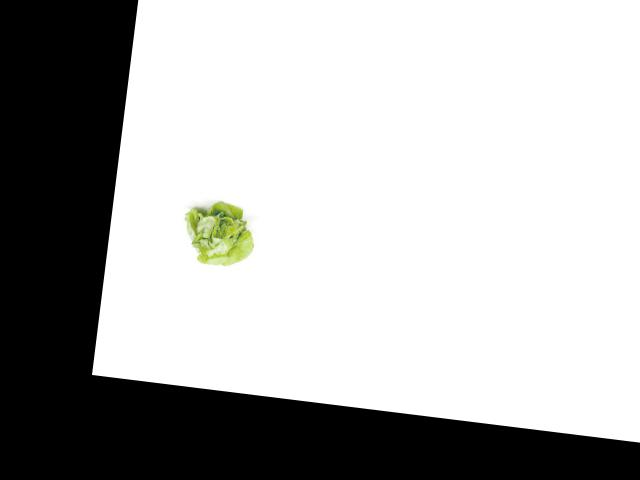lettuce: (176, 193, 260, 275)
